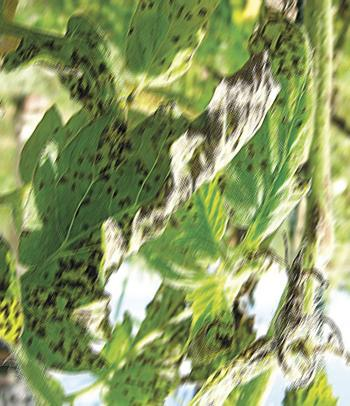Tomato Septoria leaf spot: (14, 65, 278, 366), (218, 8, 337, 245), (120, 0, 233, 88)
